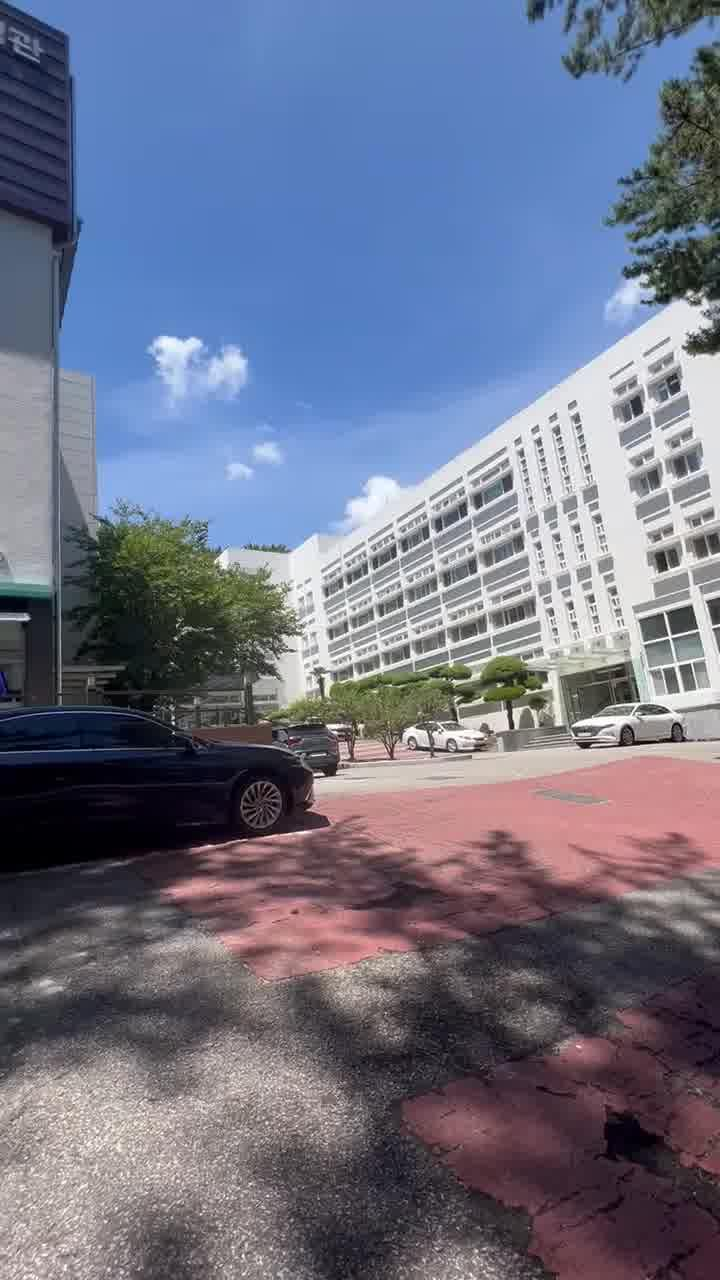building: (286, 316, 720, 676)
